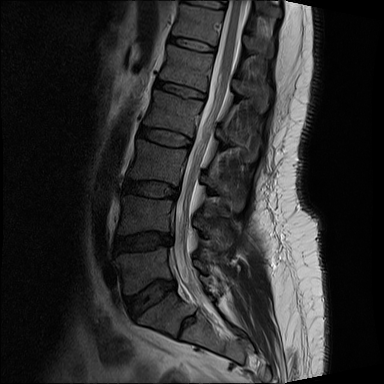Lumbar Disc Bulge (LDB): (116, 274, 186, 327), (107, 227, 179, 260)
Normal IVD: (134, 118, 195, 152), (148, 73, 210, 105), (113, 178, 186, 204), (164, 30, 219, 58)
Spinal Stenosis (SS): (157, 227, 178, 251), (166, 271, 179, 299)
